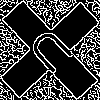U: (25, 25, 83, 84)
